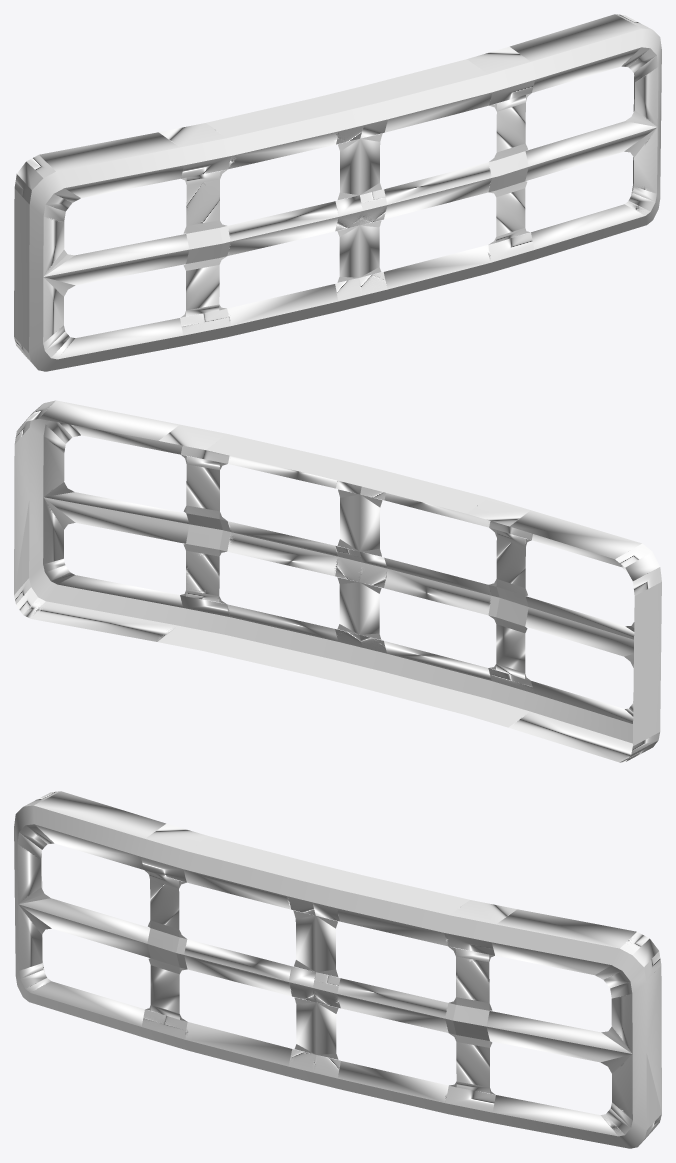
The picture shows the model from 3 angles, top to bottom: view 1: azimuth 30°, elevation 25°; view 2: azimuth 150°, elevation 25°; view 3: azimuth 330°, elevation 25°; orthographic projection.
Size of the model in its own units: 1.62 by 0.4914 by 0.1784.
1 material, 1 textured.
